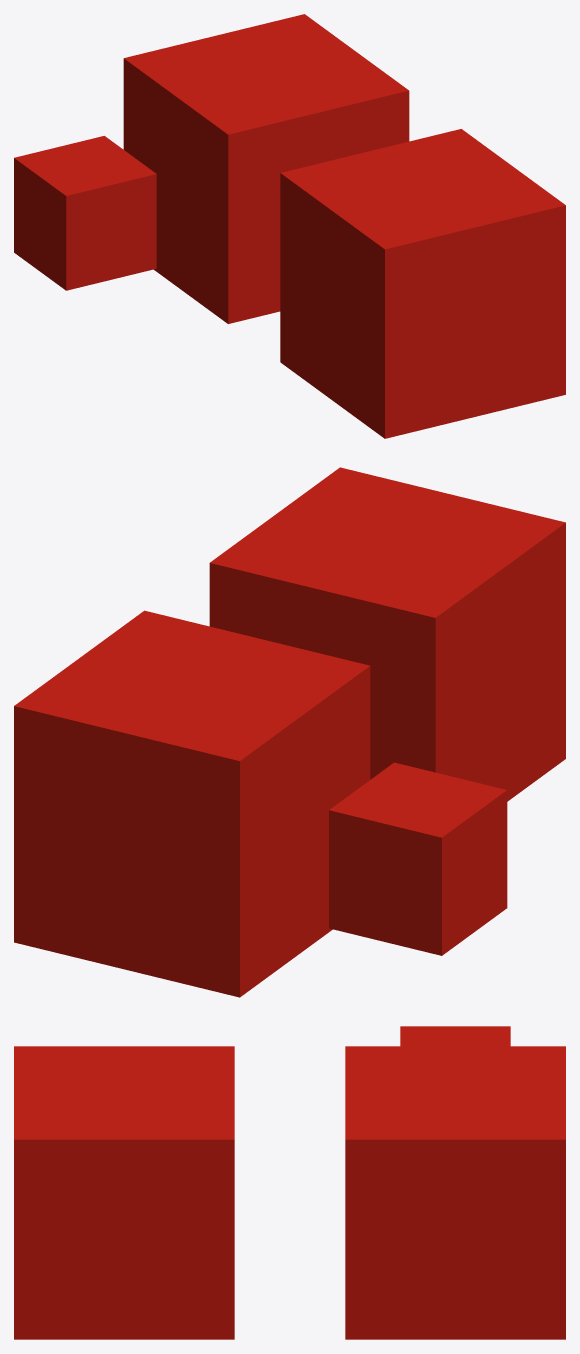
File: scene_parts.fbx
3 views of the same model, one above another, from view 1: azimuth 30°, elevation 25°; view 2: azimuth 150°, elevation 25°; view 3: azimuth 270°, elevation 25° (orthographic). The views are drawn at different scales.
Visible parts, largest first — view 1: mirror, arm, hub; view 2: arm, mirror, hub; view 3: arm, mirror, hub.
Boxes of the visible parts, <box> form: mirror: <box>280,129,565,438</box>; arm: <box>123,14,409,323</box>; hub: <box>14,136,156,290</box>; arm: <box>14,610,370,997</box>; mirror: <box>209,467,565,801</box>; hub: <box>329,762,507,955</box>; arm: <box>345,1046,565,1339</box>; mirror: <box>14,1046,234,1339</box>; hub: <box>400,1026,510,1046</box>.
Bounding box in the file's own units: 7 × 4 × 10.
